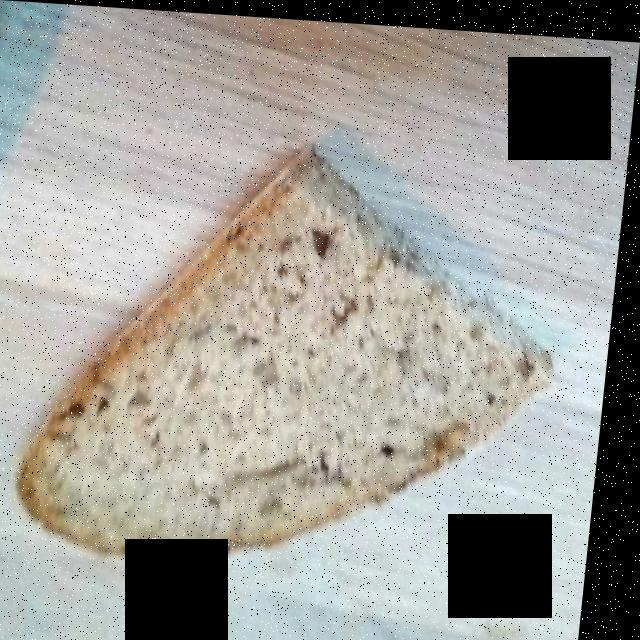bread-wholemeal: (35, 156, 556, 558)
